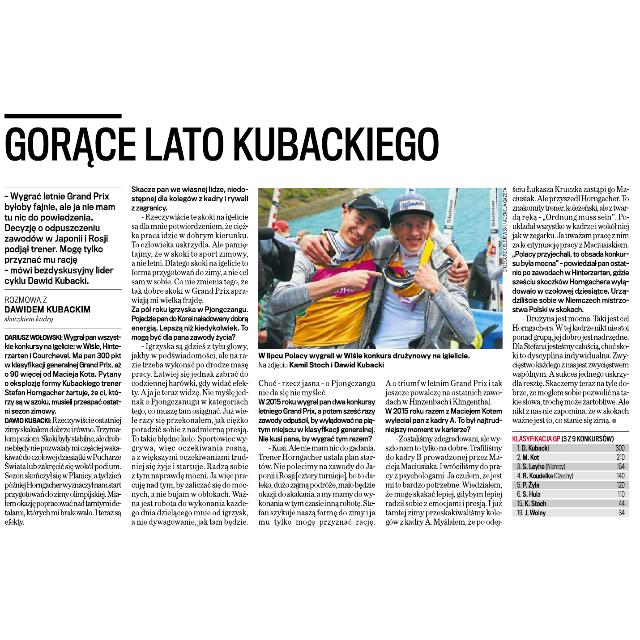body: (128, 182, 252, 528), (510, 183, 632, 425), (2, 332, 124, 526), (255, 375, 379, 529), (382, 374, 504, 526), (2, 290, 98, 324)
caption: (256, 350, 474, 370)
image: (257, 184, 505, 350)
lead: (1, 188, 119, 286)
title: (4, 118, 446, 168)
